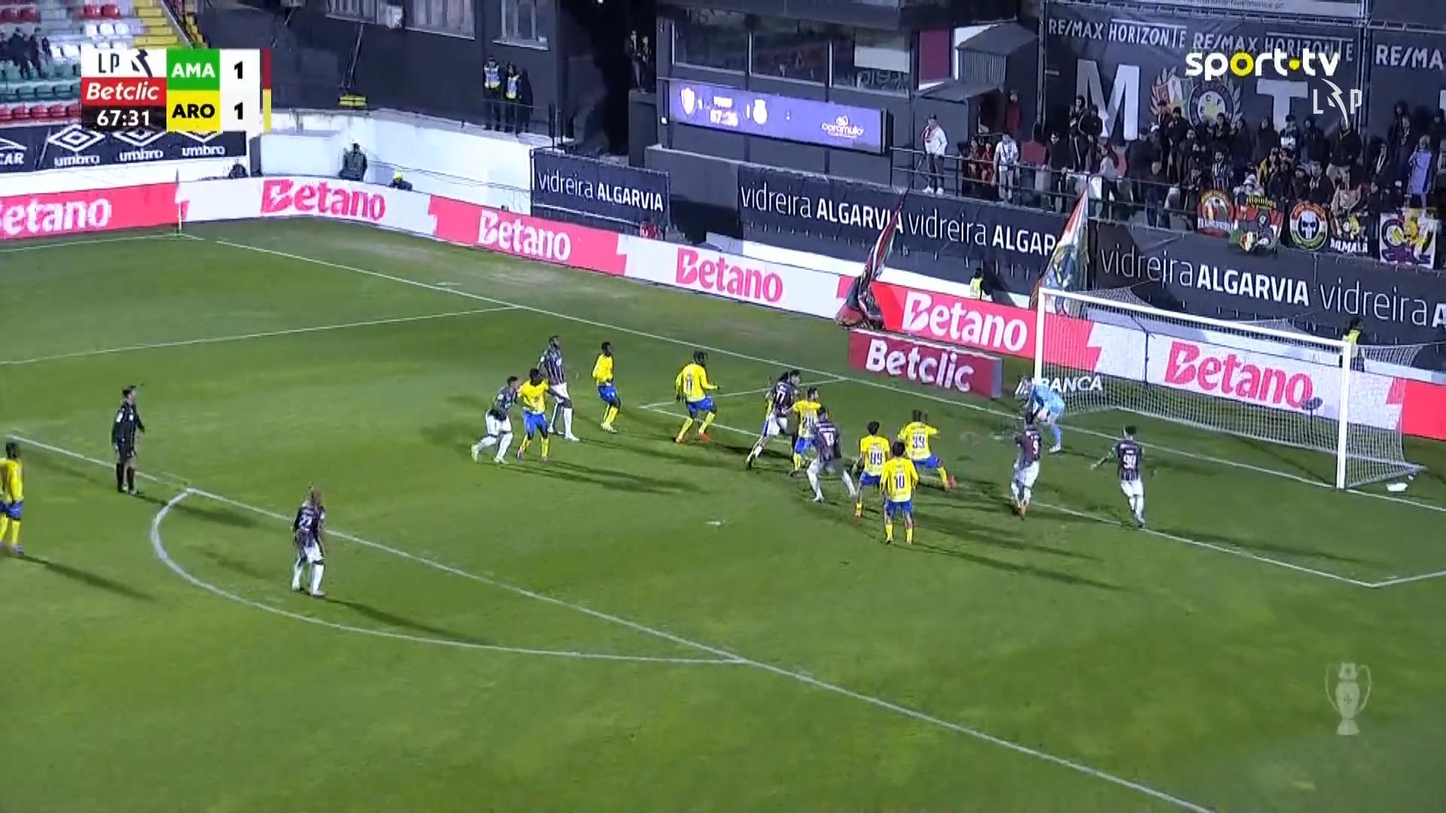goalkeeper: (1012, 373, 1065, 454)
player: (1091, 423, 1148, 529), (743, 367, 801, 470), (800, 405, 858, 503), (895, 407, 954, 491), (536, 334, 580, 442), (672, 349, 721, 444), (469, 374, 519, 464), (877, 440, 919, 544), (289, 486, 328, 597), (850, 419, 890, 519), (514, 367, 554, 461), (785, 385, 824, 477), (1008, 414, 1042, 519), (0, 437, 25, 555), (590, 340, 621, 432)
referee: (110, 384, 145, 494)
